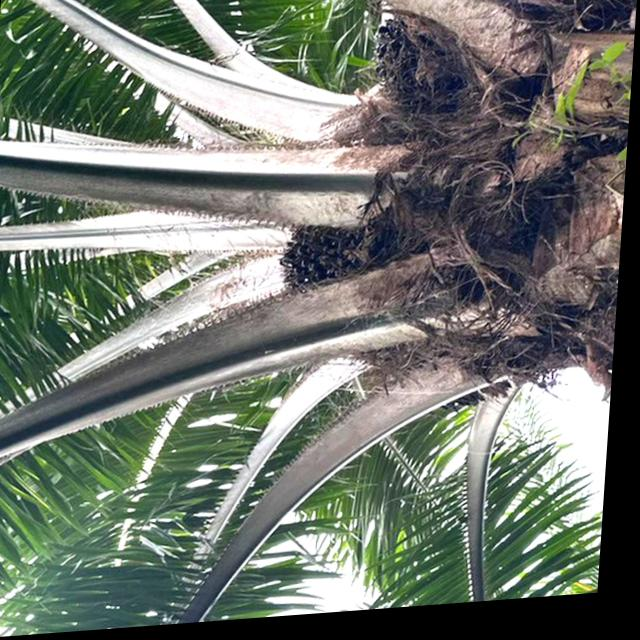unripe: (363, 7, 484, 141), (267, 205, 388, 311)
